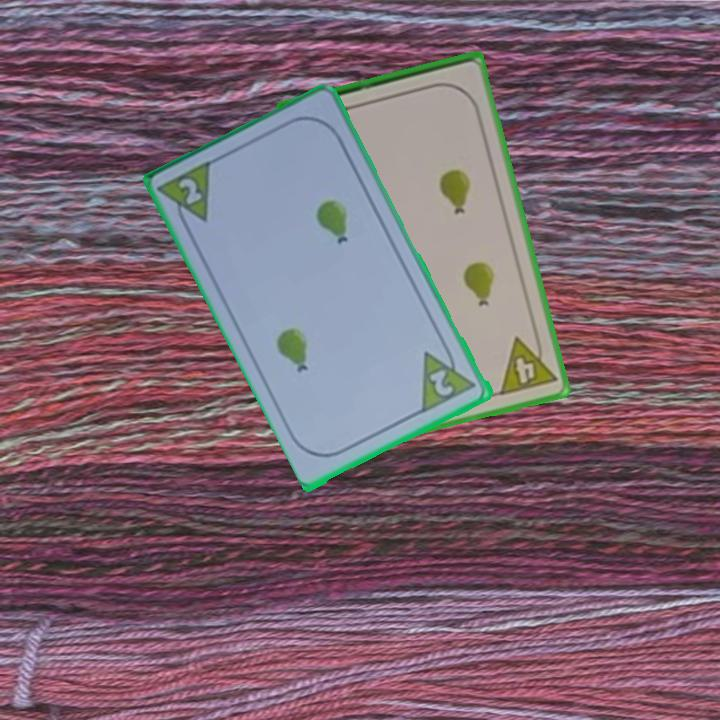2p: (418, 339, 480, 415), (175, 174, 206, 208)
4p: (496, 329, 560, 399)
